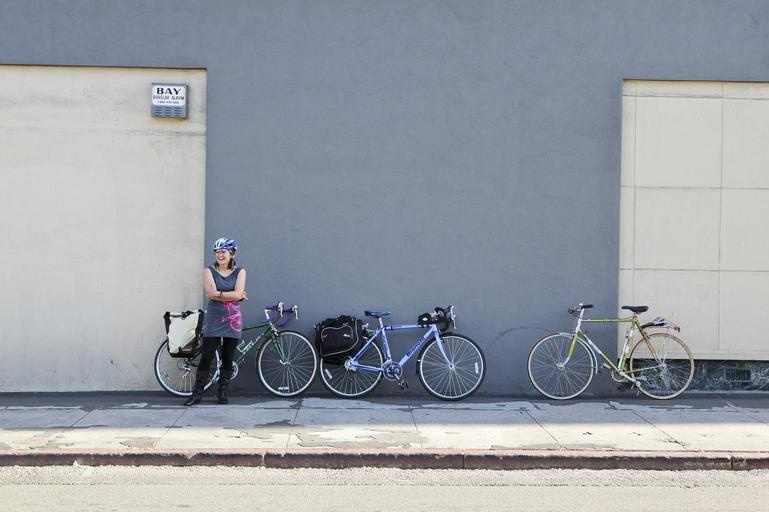non-vehicle: (527, 304, 694, 400), (152, 302, 317, 398), (319, 306, 486, 400)
